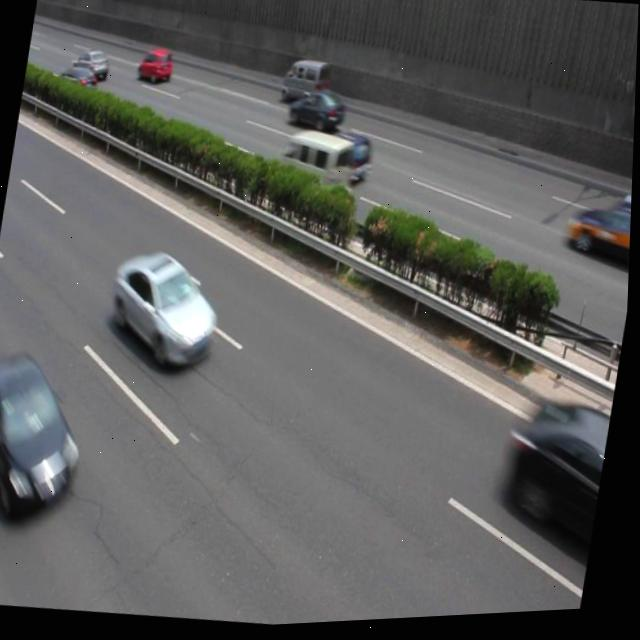car: (500, 396, 616, 566), (0, 346, 100, 529), (105, 243, 231, 379), (562, 194, 634, 281), (315, 130, 374, 192), (286, 86, 348, 140), (57, 61, 100, 105), (72, 46, 112, 83), (136, 49, 175, 86)
truck: (271, 129, 361, 220), (278, 56, 333, 110)
